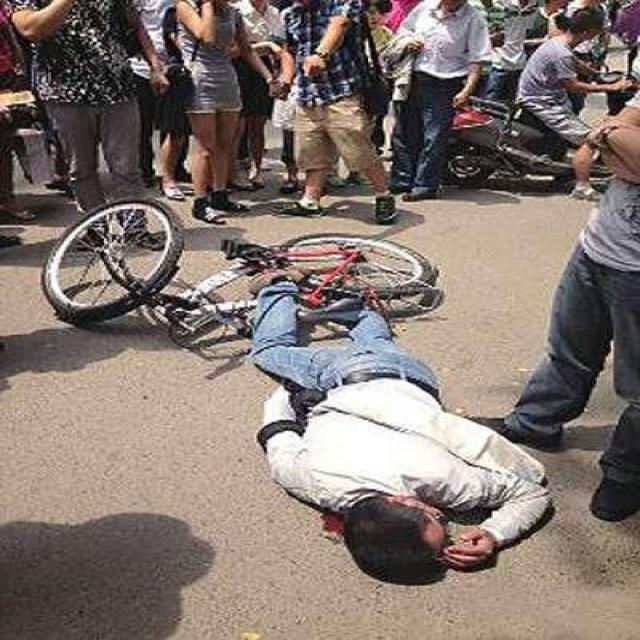10-: (0, 0, 624, 593)
down: (224, 242, 570, 594)
